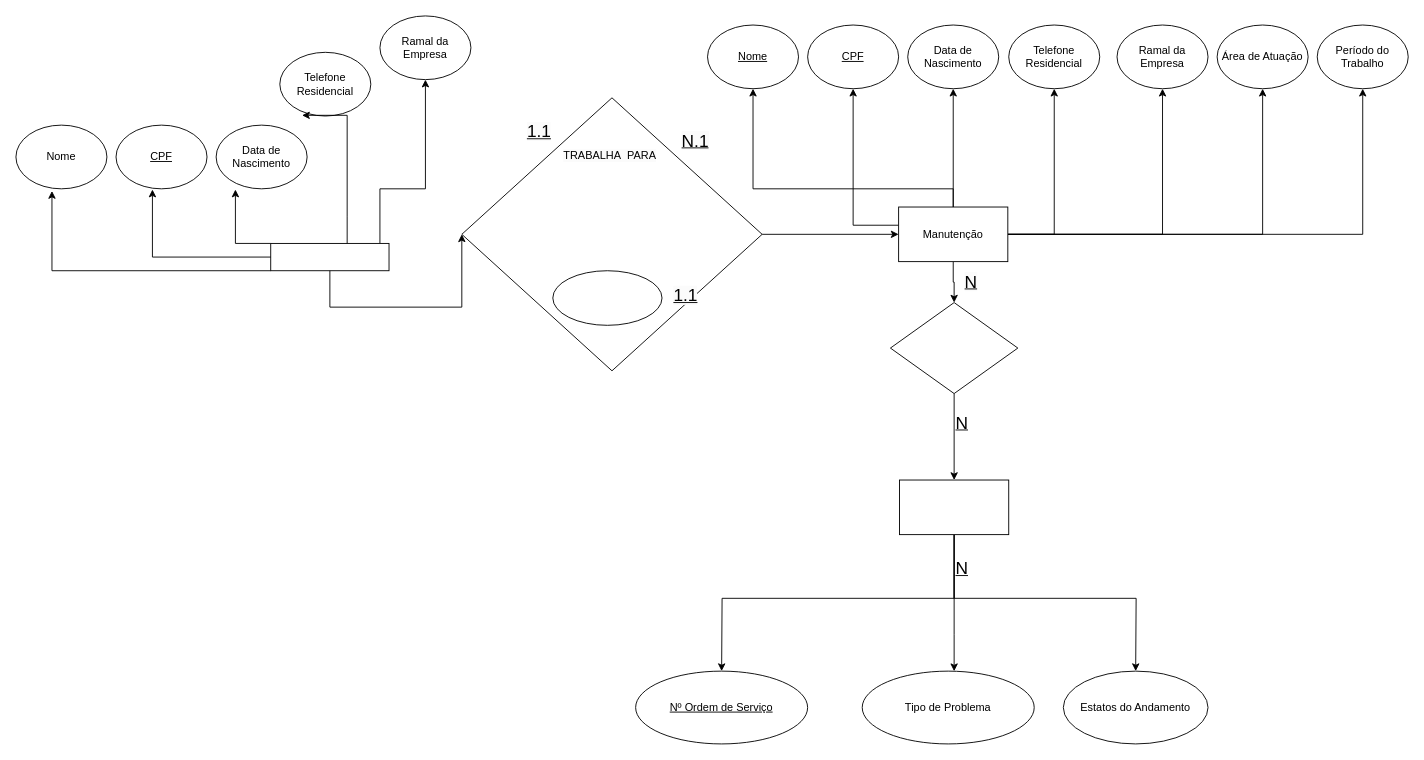
The diagram is 1424 pixels wide and 760 high, and some of its shapes have lost their labels. Each missing label, with the box of its shape:
CONTROLA: (890, 302, 1018, 394)
FUNCIONÁRIO: (270, 243, 389, 271)
ORDEM DE SERVIÇO: (899, 479, 1009, 535)
RESPONSÁVEL: (552, 270, 662, 325)
